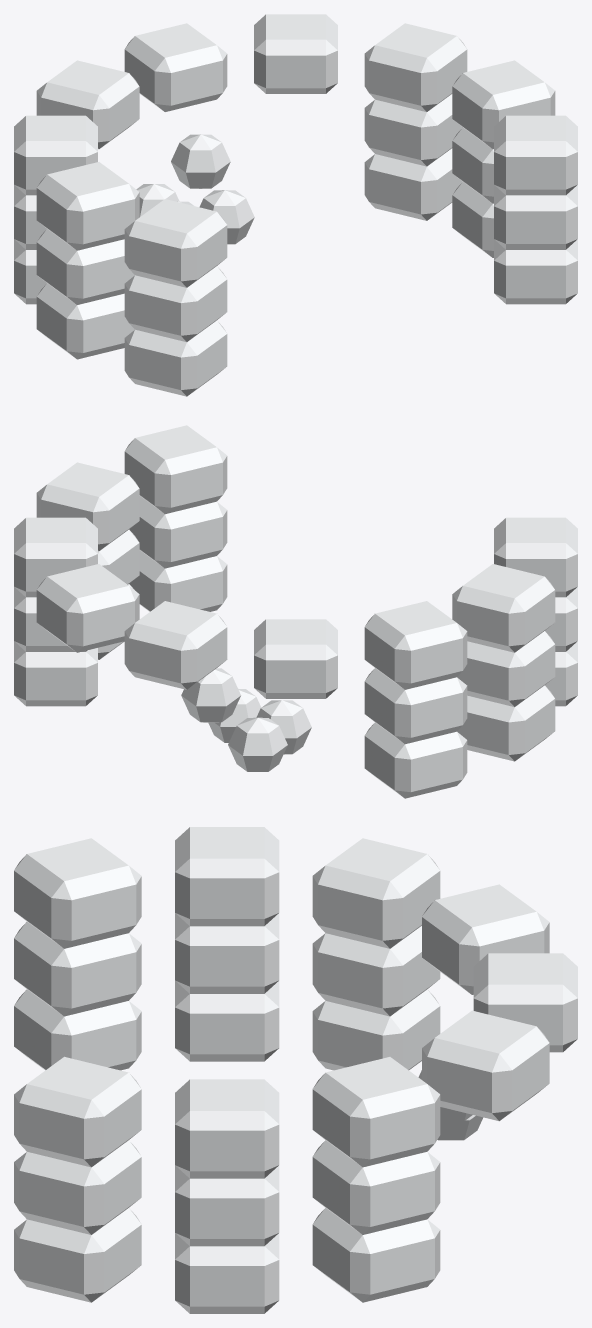
Rendered from SnowFort.fbx.
3 renders of one model, top to bottom at view 1: azimuth 30°, elevation 25°; view 2: azimuth 150°, elevation 25°; view 3: azimuth 270°, elevation 25°, orthographic. The views are drawn at different scales.
Parts seen in each view (by area): view 1: SnowFort; view 2: SnowFort; view 3: SnowFort.
Boxes of the visible parts, left/top/right/bottom form: SnowFort: left=14, top=14, right=577, bottom=396; SnowFort: left=14, top=425, right=577, bottom=798; SnowFort: left=14, top=827, right=577, bottom=1313.
Bounding box in the file's own units: 9.4 × 3 × 7.56.
1 material, 1 textured.
